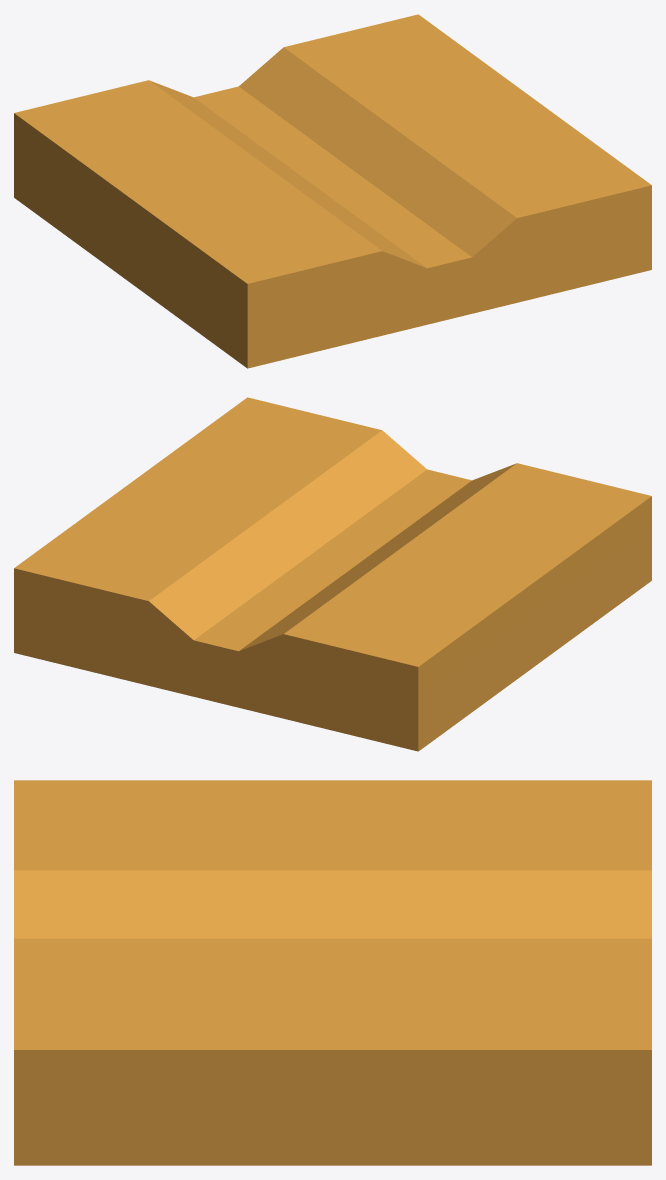
Rendered from tiles-tile-river-basin.glb.
3 views of the same model, one above another, from view 1: azimuth 30°, elevation 25°; view 2: azimuth 150°, elevation 25°; view 3: azimuth 270°, elevation 25° (orthographic). The views are drawn at different scales.
Parts seen in each view (by area): view 1: tile-river-basin; view 2: tile-river-basin; view 3: tile-river-basin.
Boxes of the visible parts, left/top/right/bottom form: tile-river-basin: left=14, top=14, right=651, bottom=368; tile-river-basin: left=14, top=397, right=651, bottom=751; tile-river-basin: left=14, top=780, right=651, bottom=1165.
Bounding box in the file's own units: 30 × 6 × 30.
